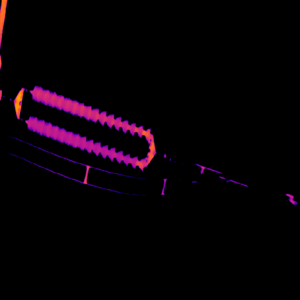insulator: (24, 85, 153, 171)
